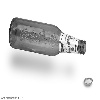beer: (6, 16, 87, 67)
